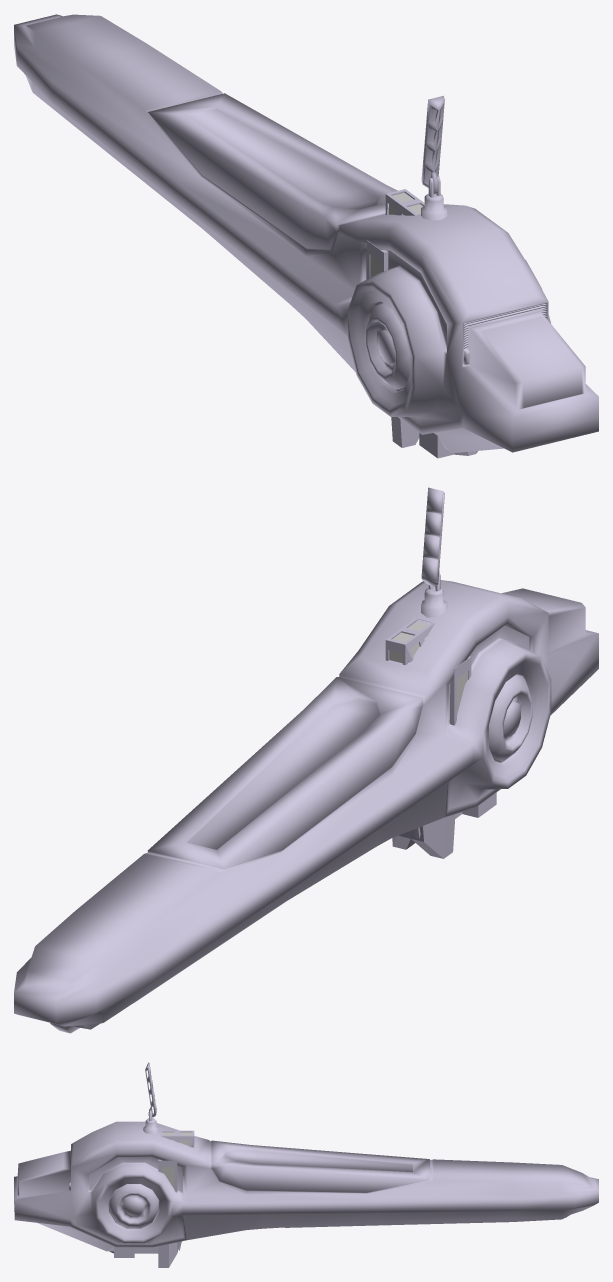
File: generated-ship-153.obj
The picture shows the model from 3 angles, top to bottom: view 1: azimuth 30°, elevation 25°; view 2: azimuth 150°, elevation 25°; view 3: azimuth 270°, elevation 25°; orthographic projection. The views are drawn at different scales.
Visible parts, largest first — view 1: hull.duckHead.001_Circle.005, bridge.compact.015_Cube.620; view 2: hull.duckHead.001_Circle.005, bridge.compact.015_Cube.620; view 3: hull.duckHead.001_Circle.005, bridge.compact.015_Cube.620.
Part boxes in pixels (bbox=[...]): hull.duckHead.001_Circle.005: bbox=[14, 14, 598, 453]; bridge.compact.015_Cube.620: bbox=[367, 95, 477, 458]; hull.duckHead.001_Circle.005: bbox=[14, 580, 598, 1033]; bridge.compact.015_Cube.620: bbox=[385, 487, 496, 858]; hull.duckHead.001_Circle.005: bbox=[14, 1121, 598, 1251]; bridge.compact.015_Cube.620: bbox=[109, 1062, 194, 1267].
Size of the model in its own units: 3.51 by 8.67 by 23.34.
